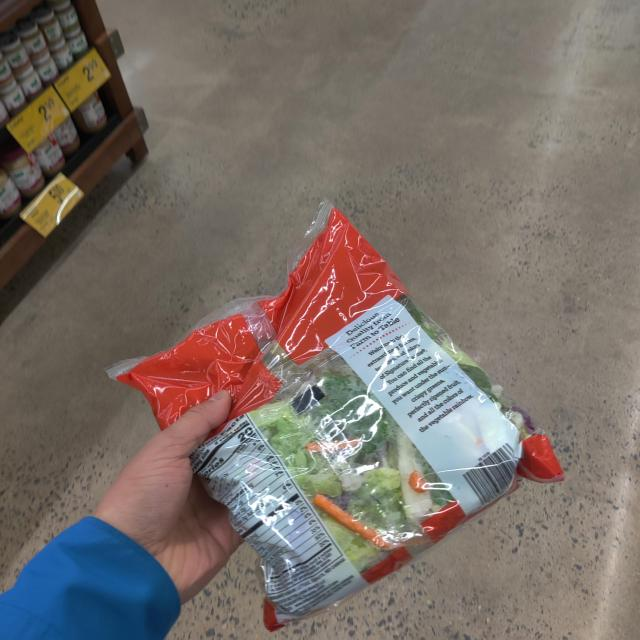Salad: (133, 226, 569, 616)
